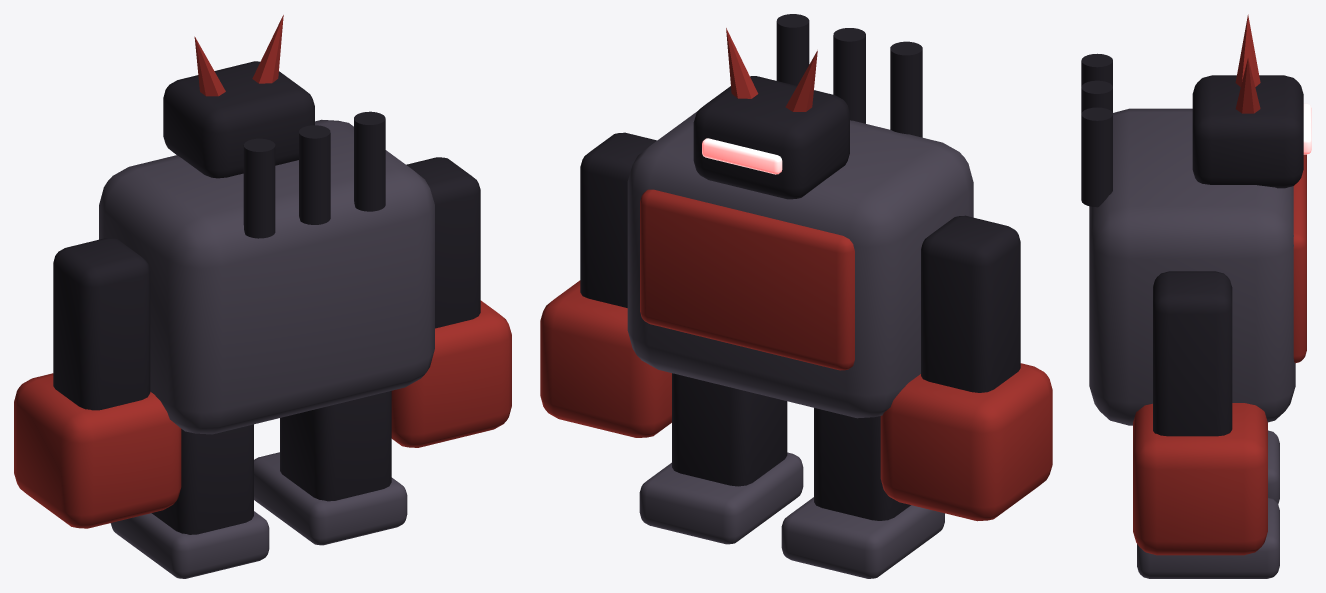
The model's file is enemy_brute.glb.
3 views of the same model, side by side, from view 1: azimuth 30°, elevation 25°; view 2: azimuth 150°, elevation 25°; view 3: azimuth 270°, elevation 25° (orthographic). The views are drawn at different scales.
Visible parts, largest first — view 1: Torso, FistL, ArmL, FistR, Head, LegR, LegL, ArmR, FootR, FootL, Vent0, Vent2 (+3 smaller); view 2: Torso, Chest, FistL, ArmL, FistR, Head, LegR, FootR, FootL, ArmR, LegL, Vent0 (+5 smaller); view 3: Torso, FistR, ArmR, Head, FootR, Vent2, Chest, Vent1, Vent0, Horn0, FootL, Horn1 (+1 smaller).
Boxes of the visible parts, x1,y1,x2,y2 form: Torso: (99,119,434,434); FistL: (14,373,181,528); ArmL: (53,238,150,410); FistR: (391,300,511,447); Head: (163,61,314,178); LegR: (280,391,391,501); LegL: (151,424,253,534); ArmR: (406,157,480,328); FootR: (254,452,407,545); FootL: (110,511,269,578); Vent0: (243,138,275,238); Vent2: (354,111,385,211); Torso: (627,111,973,418); Chest: (640,189,854,370); FistL: (880,363,1052,521); ArmL: (921,215,1020,392); FistR: (540,280,671,437); Head: (693,76,849,199); LegR: (672,373,787,486); FootR: (639,452,803,544); FootL: (781,497,944,578); ArmR: (580,132,656,307); LegL: (814,408,910,520); Vent0: (890,41,922,137); Torso: (1089,108,1295,425); FistR: (1133,403,1267,555); ArmR: (1153,271,1232,436); Head: (1192,75,1303,188); FootR: (1137,497,1279,578); Vent2: (1081,107,1112,207); Chest: (1293,154,1306,363); Vent1: (1081,80,1112,113); Vent0: (1081,53,1112,86); Horn0: (1235,14,1260,86); FootL: (1268,430,1279,503); Horn1: (1235,58,1260,113).
Size of the model in its own units: 3.25 by 3.41 by 1.45.
